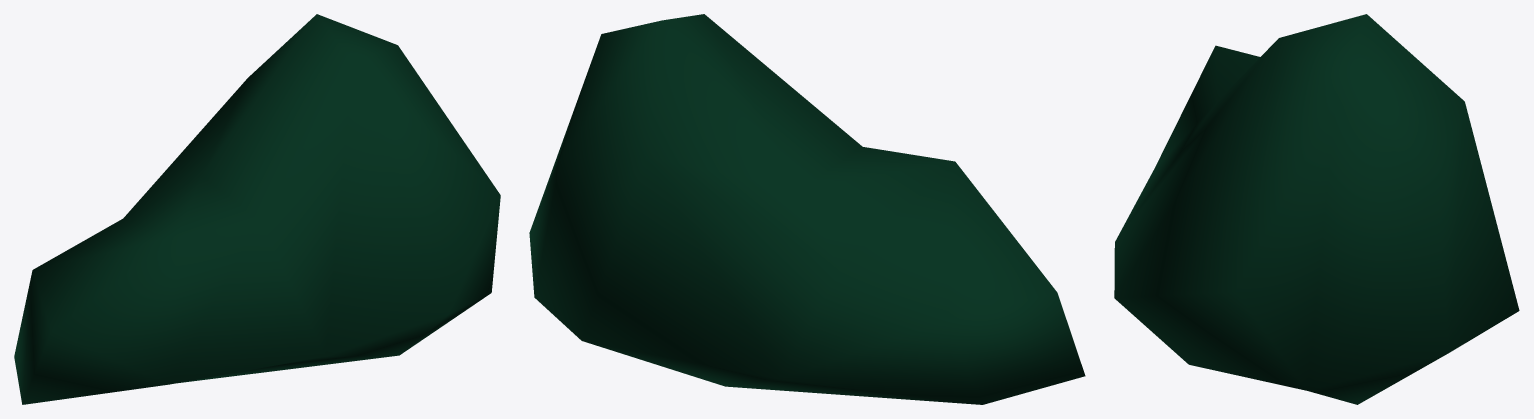
File: hill_01.fbx
3 views of the same model, side by side, from view 1: azimuth 30°, elevation 25°; view 2: azimuth 150°, elevation 25°; view 3: azimuth 270°, elevation 25° (orthographic). The views are drawn at different scales.
Visible parts, largest first — view 1: Box003; view 2: Box003; view 3: Box003.
Boxes of the visible parts, x1,y1,x2,y2 form: Box003: [14, 14, 500, 404]; Box003: [529, 14, 1085, 404]; Box003: [1114, 14, 1519, 404].
Size of the model in its own units: 217 by 120 by 132.
